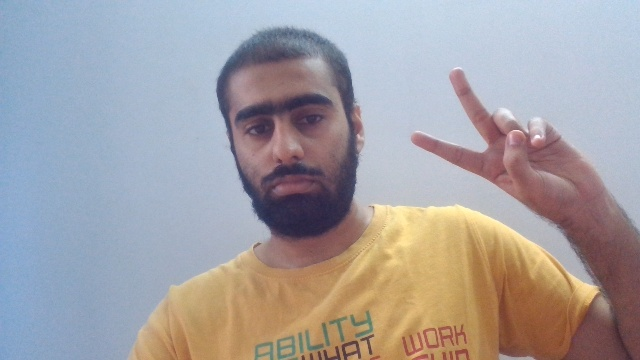scissors: (409, 66, 598, 226)
